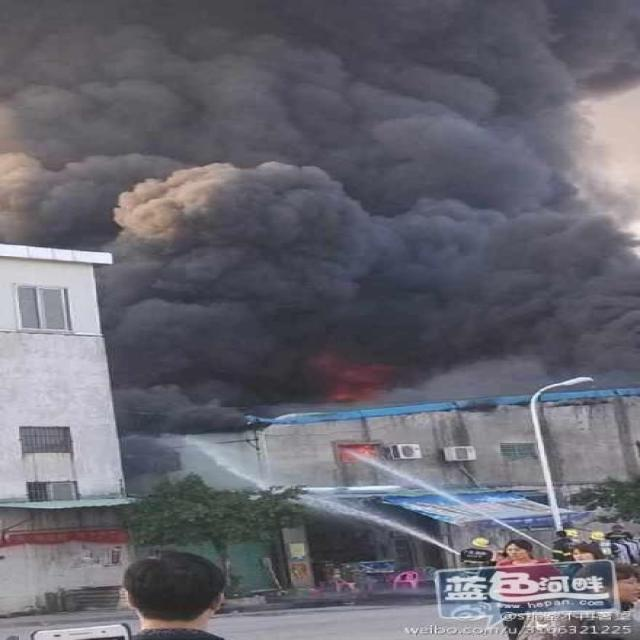Smoke: (1, 1, 640, 434)
